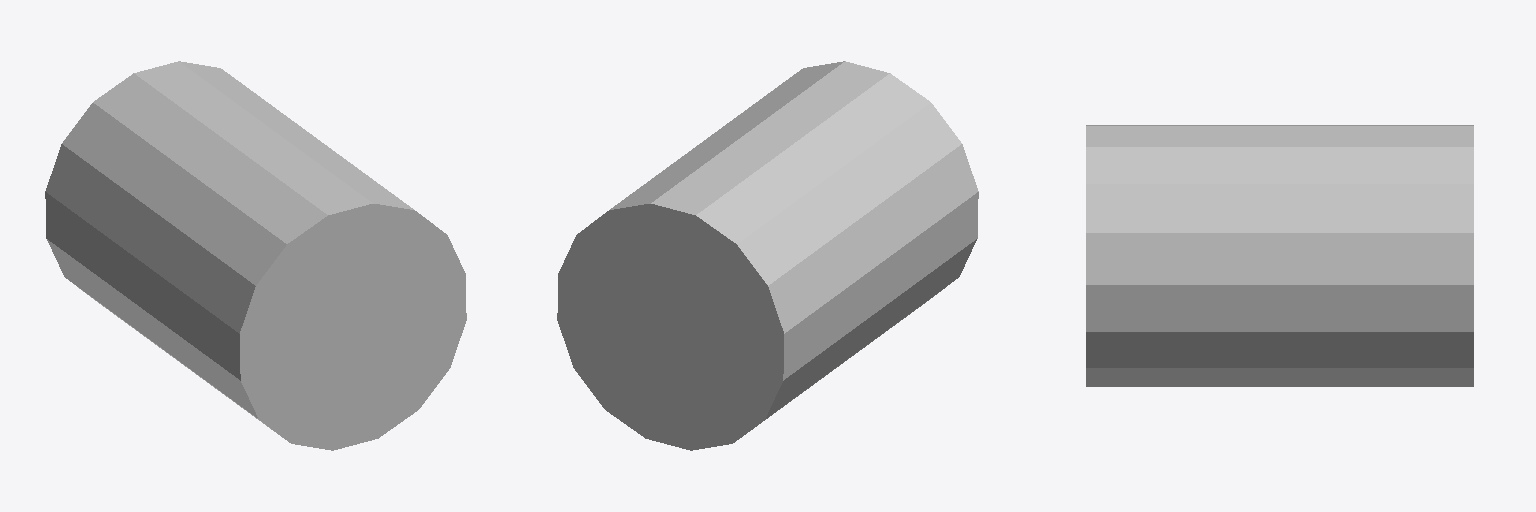
The model's file is drum.obj.
3 views of the same model, side by side, from view 1: azimuth 30°, elevation 25°; view 2: azimuth 150°, elevation 25°; view 3: azimuth 270°, elevation 25° (orthographic).
Visible parts, largest first — view 1: obj1; view 2: obj1; view 3: obj1.
Part boxes in pixels (left/top/right/bottom): obj1: left=45, top=61, right=466, bottom=450; obj1: left=557, top=61, right=978, bottom=450; obj1: left=1086, top=125, right=1473, bottom=386.
Size of the model in its own units: 0.7892 by 0.7892 by 1.17.